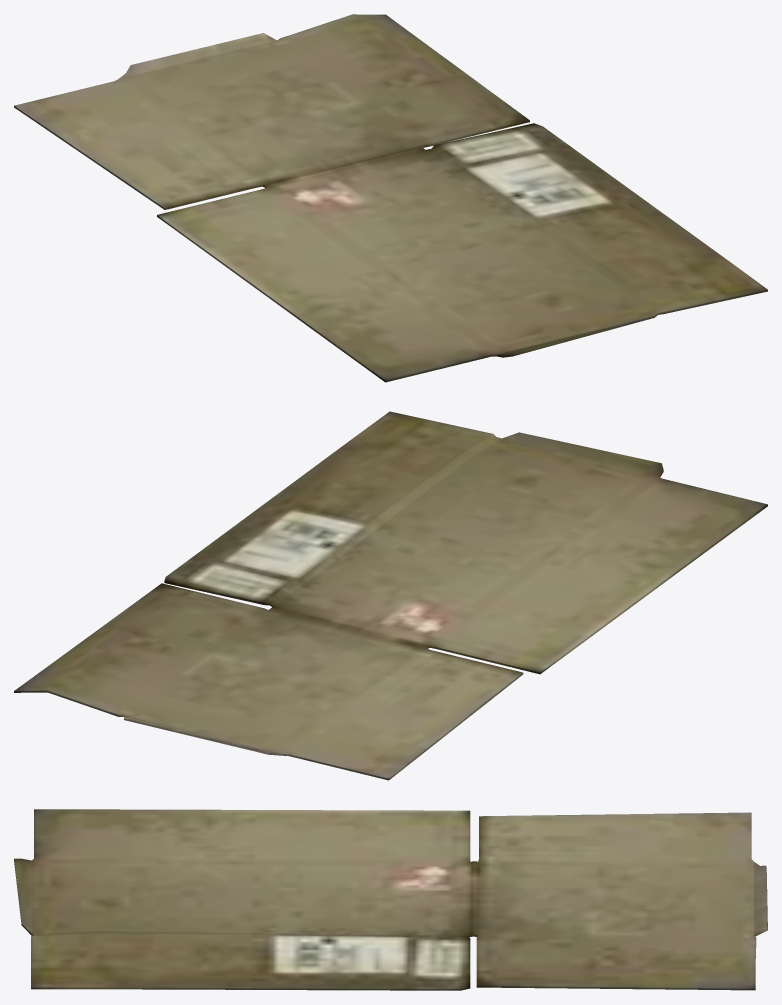
The model's file is garbage_carboard002a.glb.
The picture shows the model from 3 angles, top to bottom: view 1: azimuth 30°, elevation 25°; view 2: azimuth 150°, elevation 25°; view 3: azimuth 270°, elevation 25°; orthographic projection. The views are drawn at different scales.
Visible parts, largest first — view 1: 0_garbage003a_01; view 2: 0_garbage003a_01; view 3: 0_garbage003a_01.
Boxes of the visible parts, x1,y1,x2,y2 form: 0_garbage003a_01: [14, 14, 767, 382]; 0_garbage003a_01: [14, 411, 767, 780]; 0_garbage003a_01: [14, 809, 767, 990].
Size of the model in its own units: 0.6687 by 0.0174 by 1.2.
Materials: 1 (1 with a texture image).
